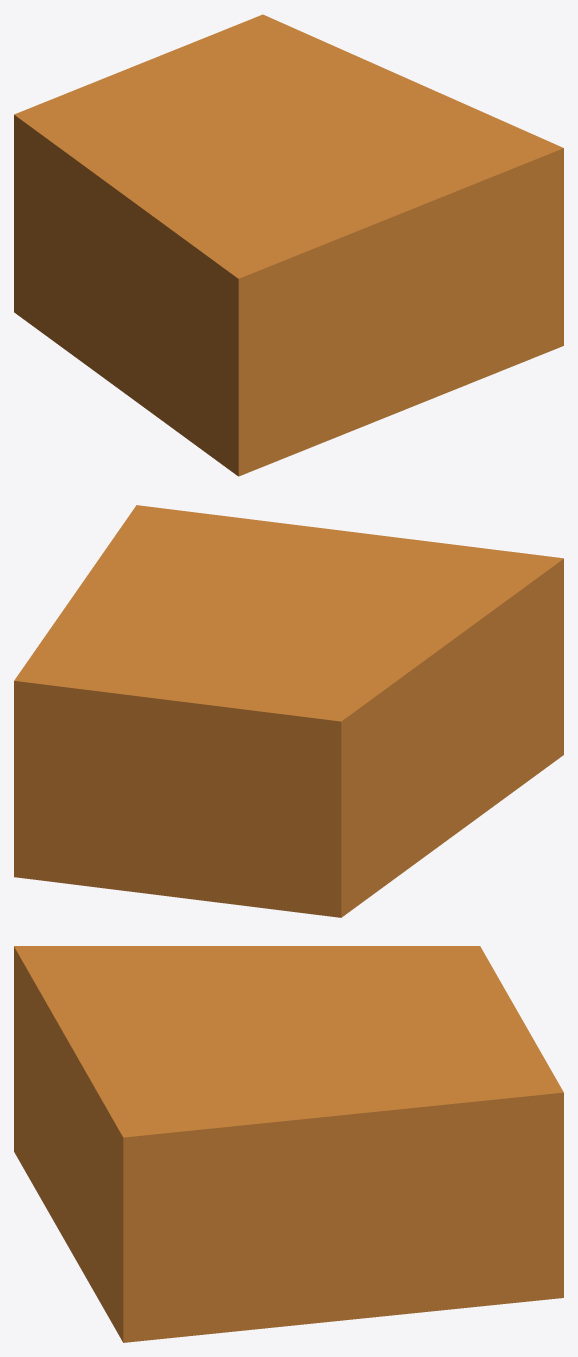
The picture shows the model from 3 angles, top to bottom: view 1: azimuth 30°, elevation 25°; view 2: azimuth 150°, elevation 25°; view 3: azimuth 270°, elevation 25°; orthographic projection. The views are drawn at different scales.
Parts seen in each view (by area): view 1: CORNER-A-24-p1; view 2: CORNER-A-24-p1; view 3: CORNER-A-24-p1.
Boxes of the visible parts, bbox=[...] form: CORNER-A-24-p1: bbox=[14, 14, 563, 476]; CORNER-A-24-p1: bbox=[14, 505, 563, 917]; CORNER-A-24-p1: bbox=[14, 946, 563, 1342].
Size of the model in its own units: 0.09 by 0.045 by 0.1092.
